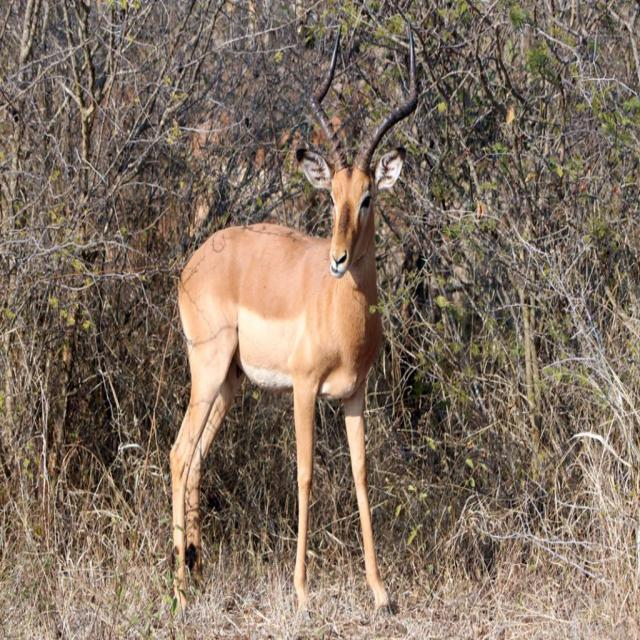Deer: (166, 31, 412, 615)
